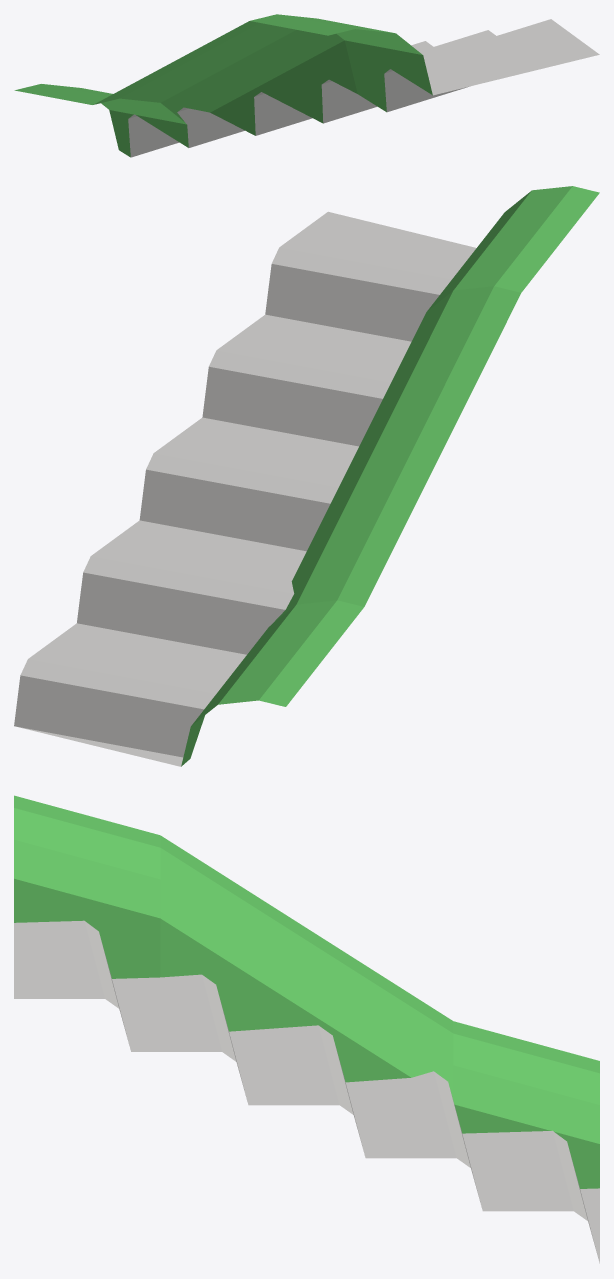
The model's file is Cliff_Terrain_Path_Steps_Grass_Edge.glb.
3 renders of one model, top to bottom at view 1: azimuth 30°, elevation 25°; view 2: azimuth 150°, elevation 25°; view 3: azimuth 270°, elevation 25°, orthographic. The views are drawn at different scales.
Parts seen in each view (by area): view 1: Cliff_Terrain_Path_Steps_Grass_Edge; view 2: Cliff_Terrain_Path_Steps_Grass_Edge; view 3: Cliff_Terrain_Path_Steps_Grass_Edge.
Part boxes in pixels (x1=…): Cliff_Terrain_Path_Steps_Grass_Edge: x1=14, y1=14, x2=599, y2=157; Cliff_Terrain_Path_Steps_Grass_Edge: x1=14, y1=186, x2=599, y2=766; Cliff_Terrain_Path_Steps_Grass_Edge: x1=14, y1=795, x2=599, y2=1263.
Bounding box in the file's own units: 0.53 × 0.689 × 1.06.
